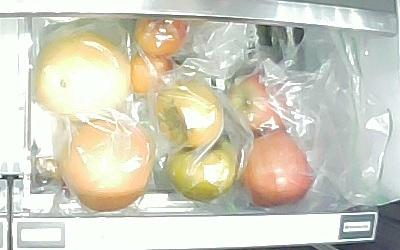apple_vinyl: (240, 130, 317, 209), (226, 69, 296, 136)
grapefruit_vinyl: (59, 117, 156, 213), (33, 32, 132, 117)
persimmon_vinyl: (152, 82, 225, 148), (164, 143, 240, 202)
prune_vinyl: (132, 17, 191, 57), (129, 54, 175, 96)
